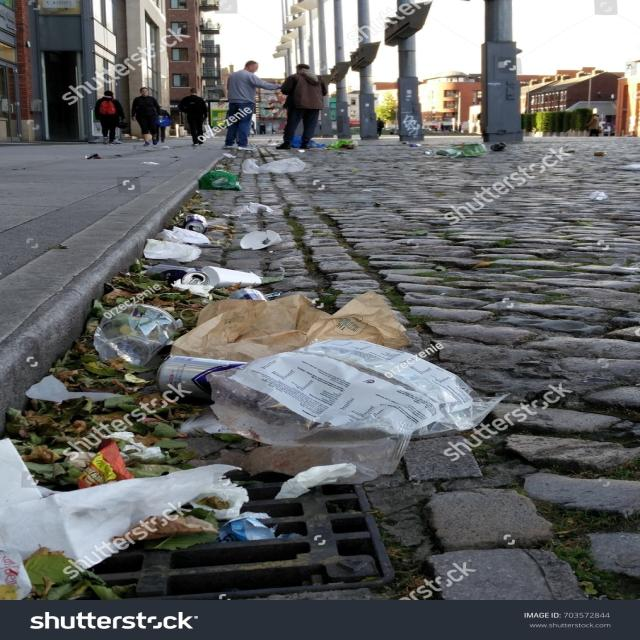garbage: (0, 135, 560, 596)
